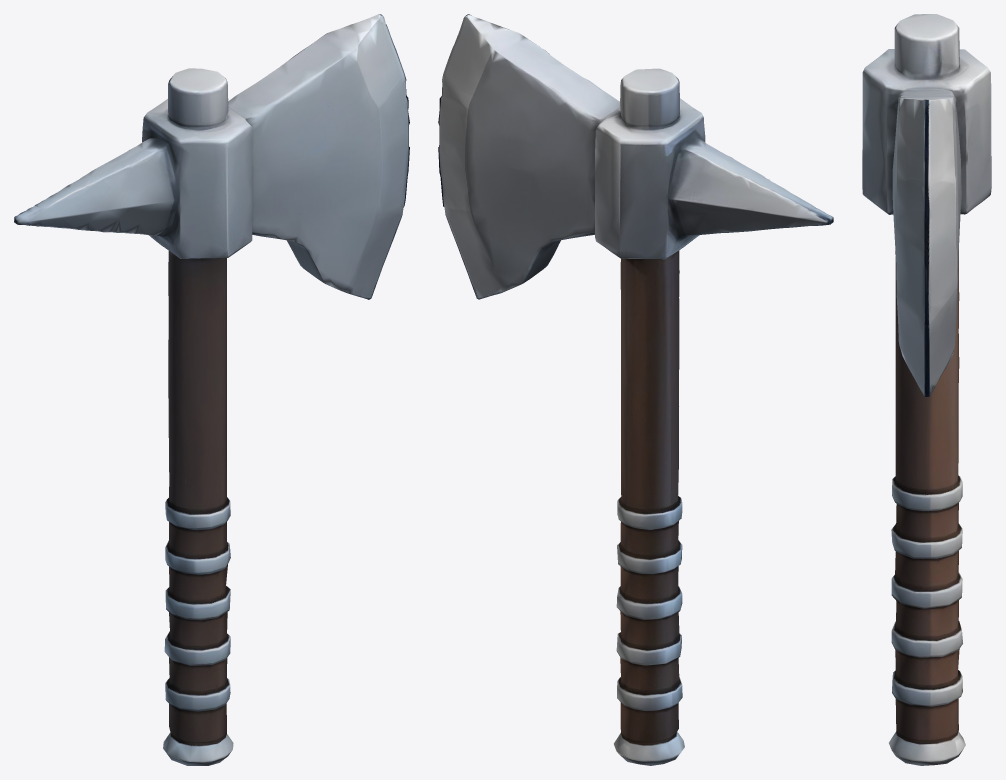
The model's file is w_iron--axe.glb.
The picture shows the model from 3 angles, left to right: view 1: azimuth 30°, elevation 25°; view 2: azimuth 150°, elevation 25°; view 3: azimuth 270°, elevation 25°; orthographic projection. The views are drawn at different scales.
Parts seen in each view (by area): view 1: Weapon; view 2: Weapon; view 3: Weapon.
Part boxes in pixels (box(x1,y1,x2,y2)): Weapon: box(14, 14, 409, 765); Weapon: box(438, 14, 833, 765); Weapon: box(862, 14, 991, 765).
Size of the model in its own units: 0.5817 by 0.9796 by 0.1536.
Materials: 1 (1 with a texture image).
